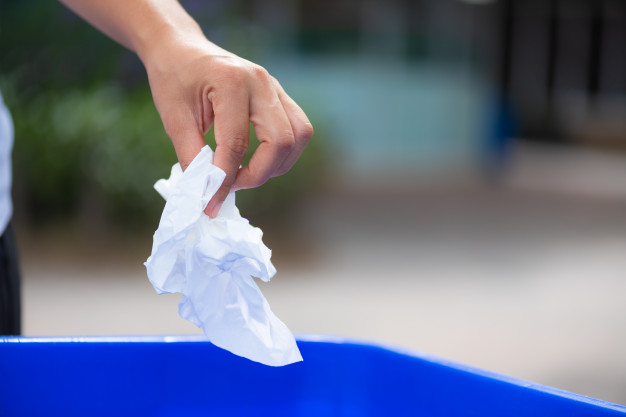Tissue: (141, 218, 306, 367)
